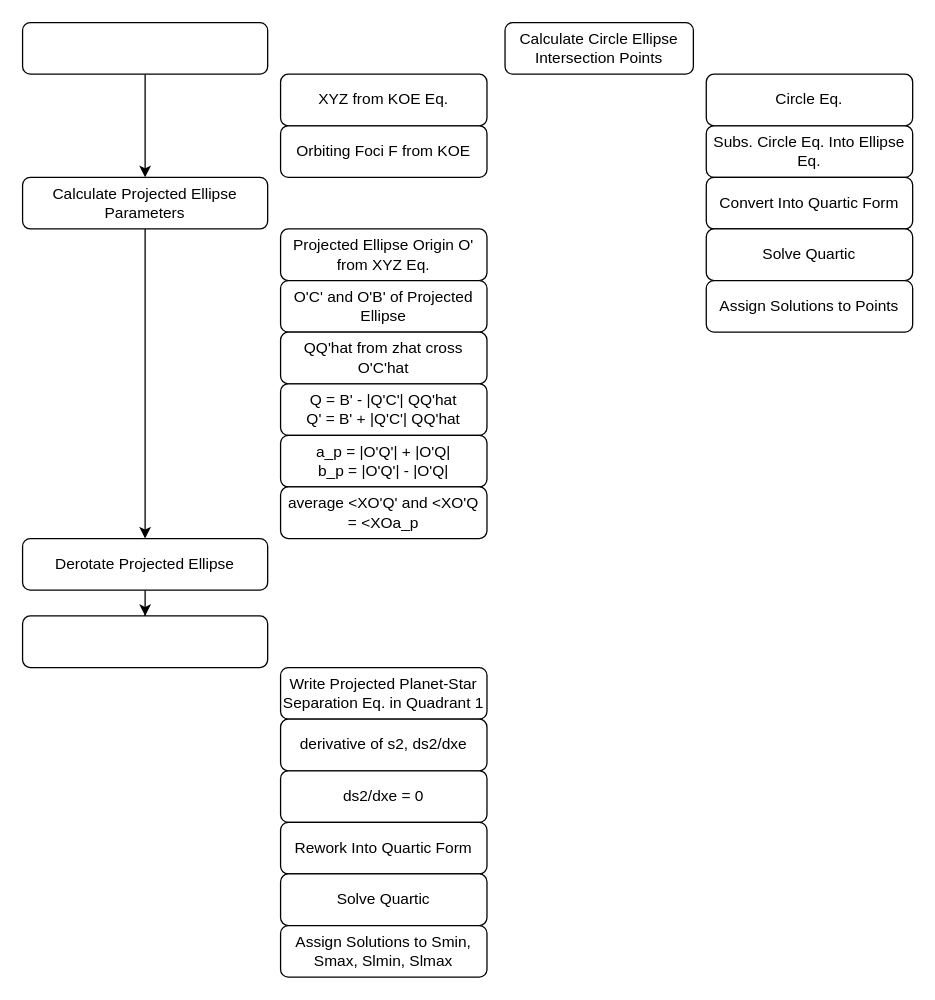
This 935x1000 diagram has some shape labels left out. Here are the shapes that lost their labels. From the top down, the centre of each, then its label:
At point 144,47: "Generate Planet Keplerian Orbital Elements and Planet Properties".
At point 144,641: "Calculate Smin, Smax, Slmin, Slmax".
